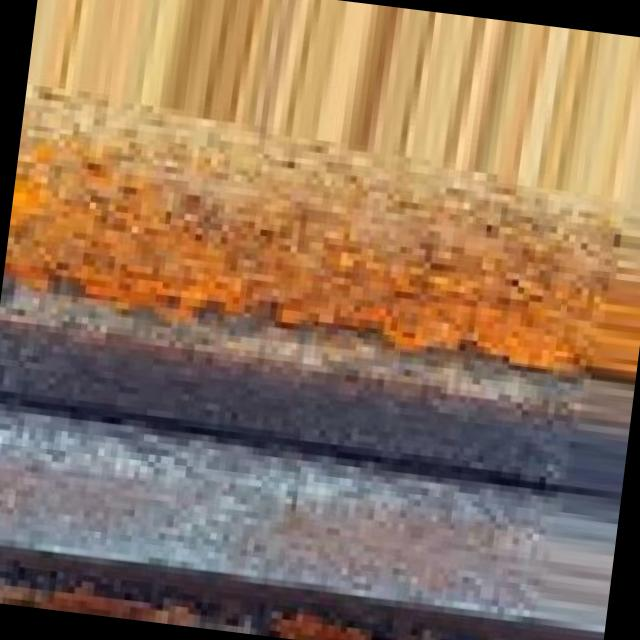defective: (0, 66, 609, 455)
